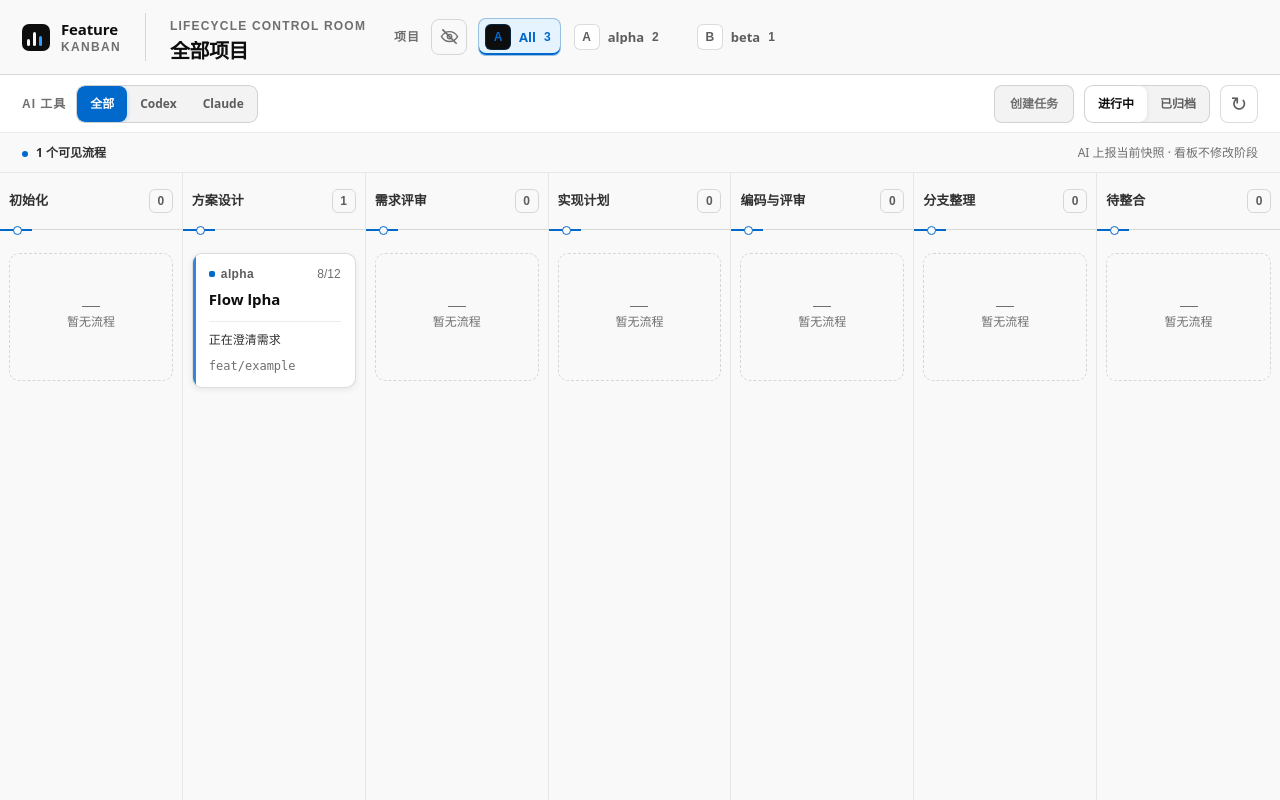
BoardPageComponent › renders the seven-stage projection and exposes read-only details without stage editing or dragging
Click the button with class "card__open".
click(274, 320)  # box [193,254,355,387]
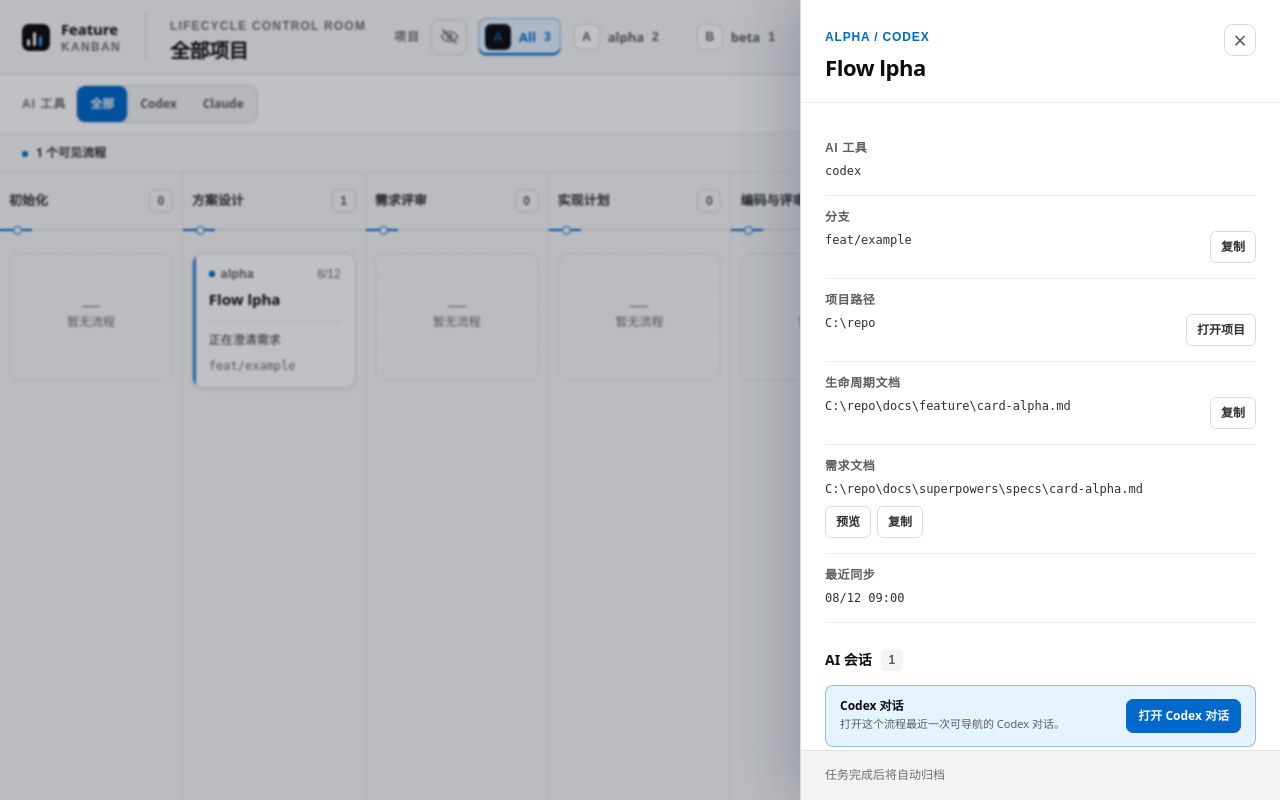
Result: the text "AI 会话" is shown at [825,652,872,666]
Result: the text "打开 Codex 对话" is shown at [1126,698,1241,732]
Result: the text "任务完成后将自动归档" is shown at [825,767,945,784]
